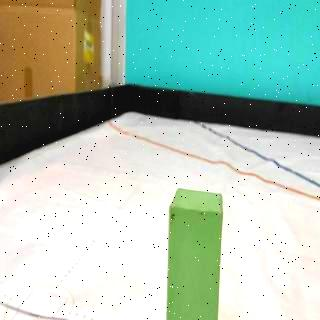greenbox: (168, 186, 224, 320)
